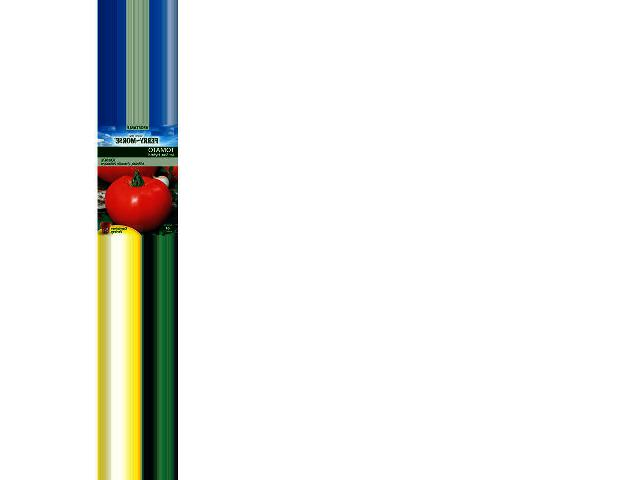tomato: (105, 176, 171, 232)
